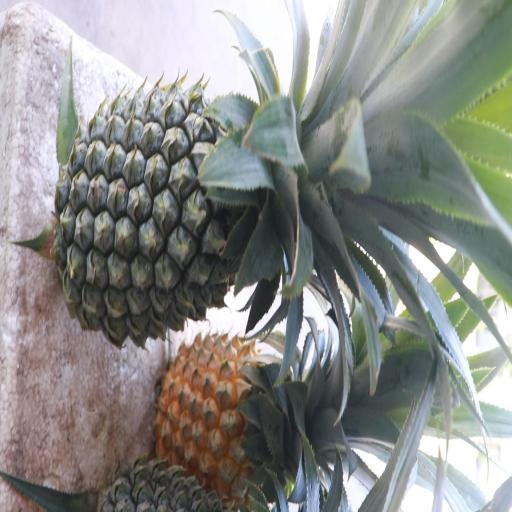Pineapple - v8 v1: (162, 336, 313, 500)
